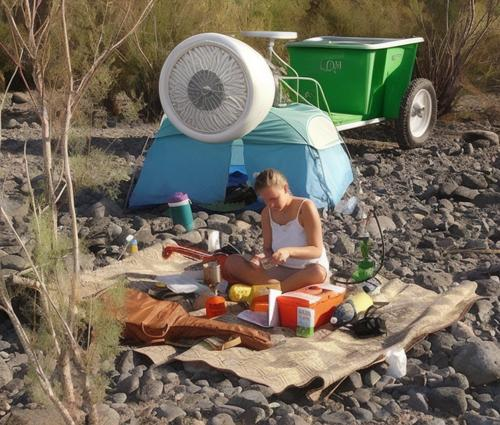cat: (156, 32, 444, 153)
person: (220, 171, 334, 302)
person/hand: (271, 247, 291, 265), (250, 256, 265, 268)
person/head: (254, 168, 289, 212)
